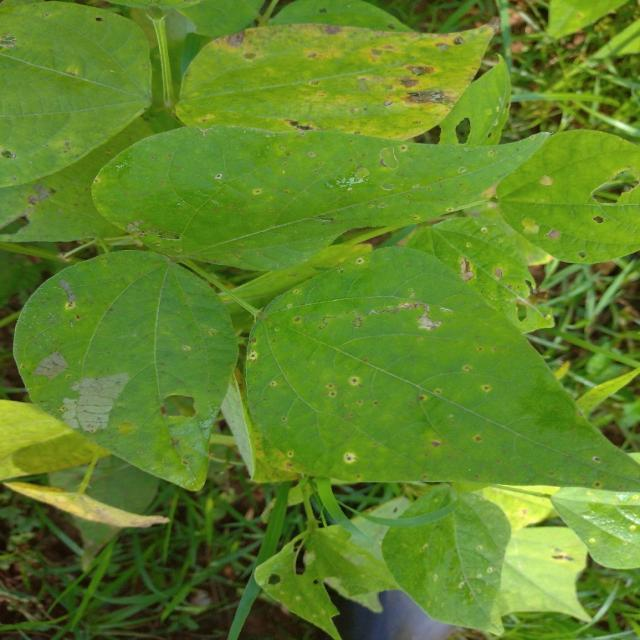hawar: (215, 18, 494, 145), (300, 273, 466, 382), (116, 370, 229, 456), (551, 156, 640, 252), (121, 212, 200, 309), (0, 15, 34, 182)
